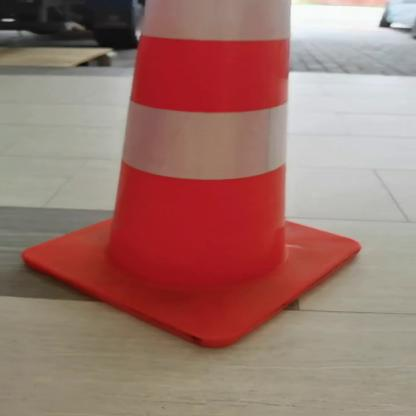cone: (4, 3, 368, 352)
